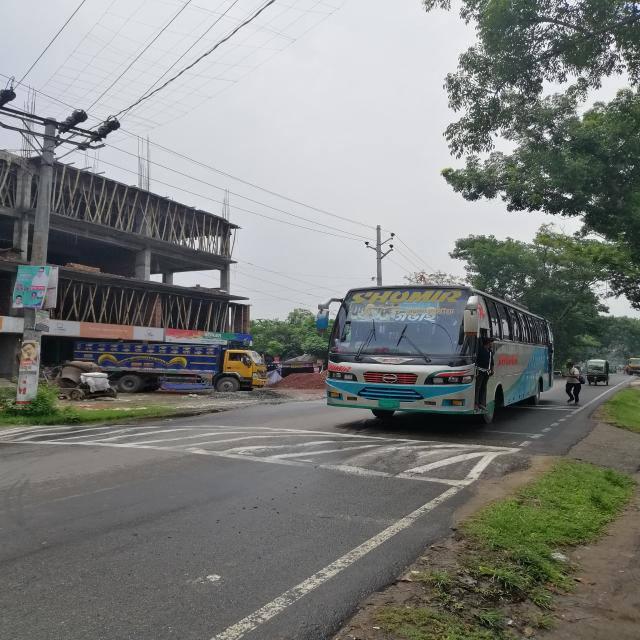Bus: (314, 282, 568, 426)
